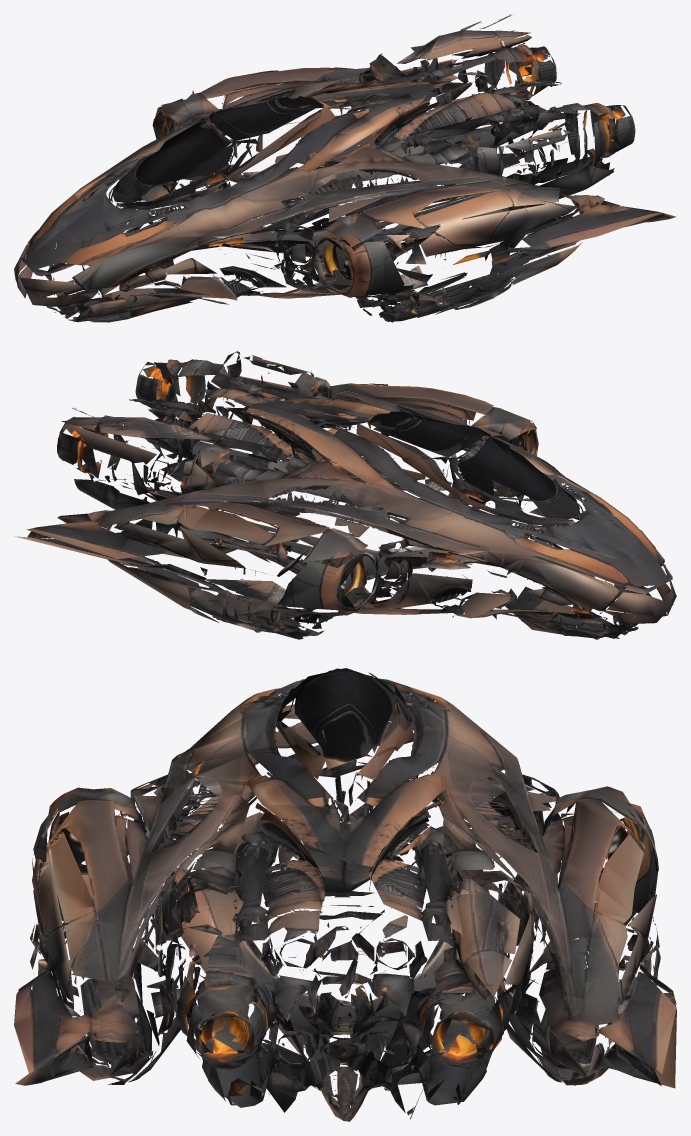
File: vortex-z3.glb
3 renders of one model, top to bottom at view 1: azimuth 30°, elevation 25°; view 2: azimuth 150°, elevation 25°; view 3: azimuth 270°, elevation 25°, orthographic. The views are drawn at different scales.
Bounding box in the file's own units: 1.9 × 0.5606 × 1.28.
1 material, 1 textured.
